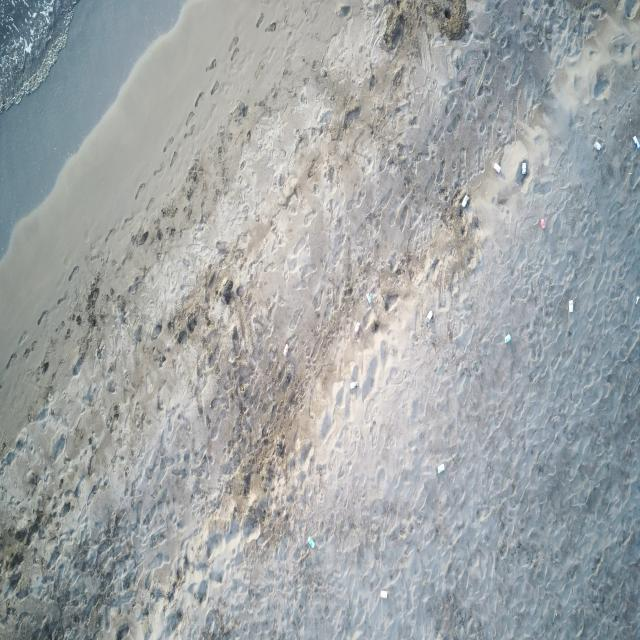Garbage: (515, 159, 527, 183), (367, 316, 379, 332), (520, 160, 527, 176), (460, 193, 468, 207), (353, 320, 360, 335), (308, 535, 315, 547), (633, 135, 639, 148), (492, 163, 500, 172), (436, 464, 444, 473), (504, 333, 511, 343), (537, 218, 544, 228), (593, 141, 600, 150), (567, 300, 572, 312), (367, 292, 372, 304), (426, 311, 432, 320), (351, 381, 357, 390), (380, 590, 387, 597), (284, 343, 287, 356), (635, 296, 639, 303)
